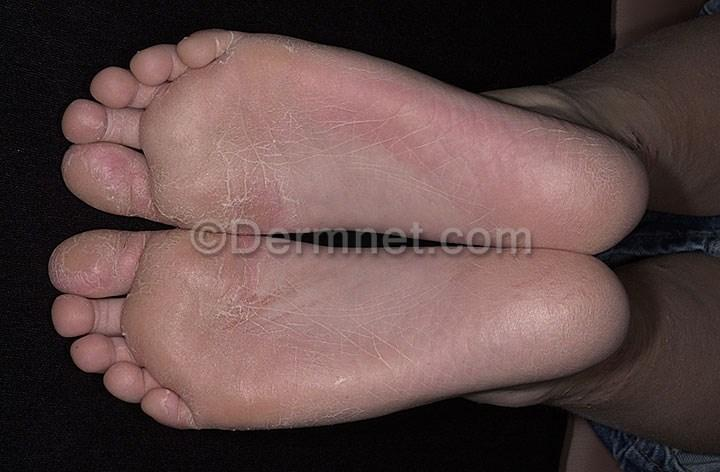Eczema: (446, 126, 591, 235), (480, 271, 596, 374), (148, 153, 263, 226), (331, 65, 424, 147), (245, 367, 359, 429), (145, 327, 234, 406), (203, 90, 299, 152), (77, 146, 157, 218), (226, 276, 299, 348), (132, 260, 220, 315), (366, 352, 453, 393), (56, 240, 134, 285), (74, 109, 138, 154), (266, 37, 324, 79), (142, 55, 202, 94), (97, 73, 149, 106), (204, 35, 237, 59)
